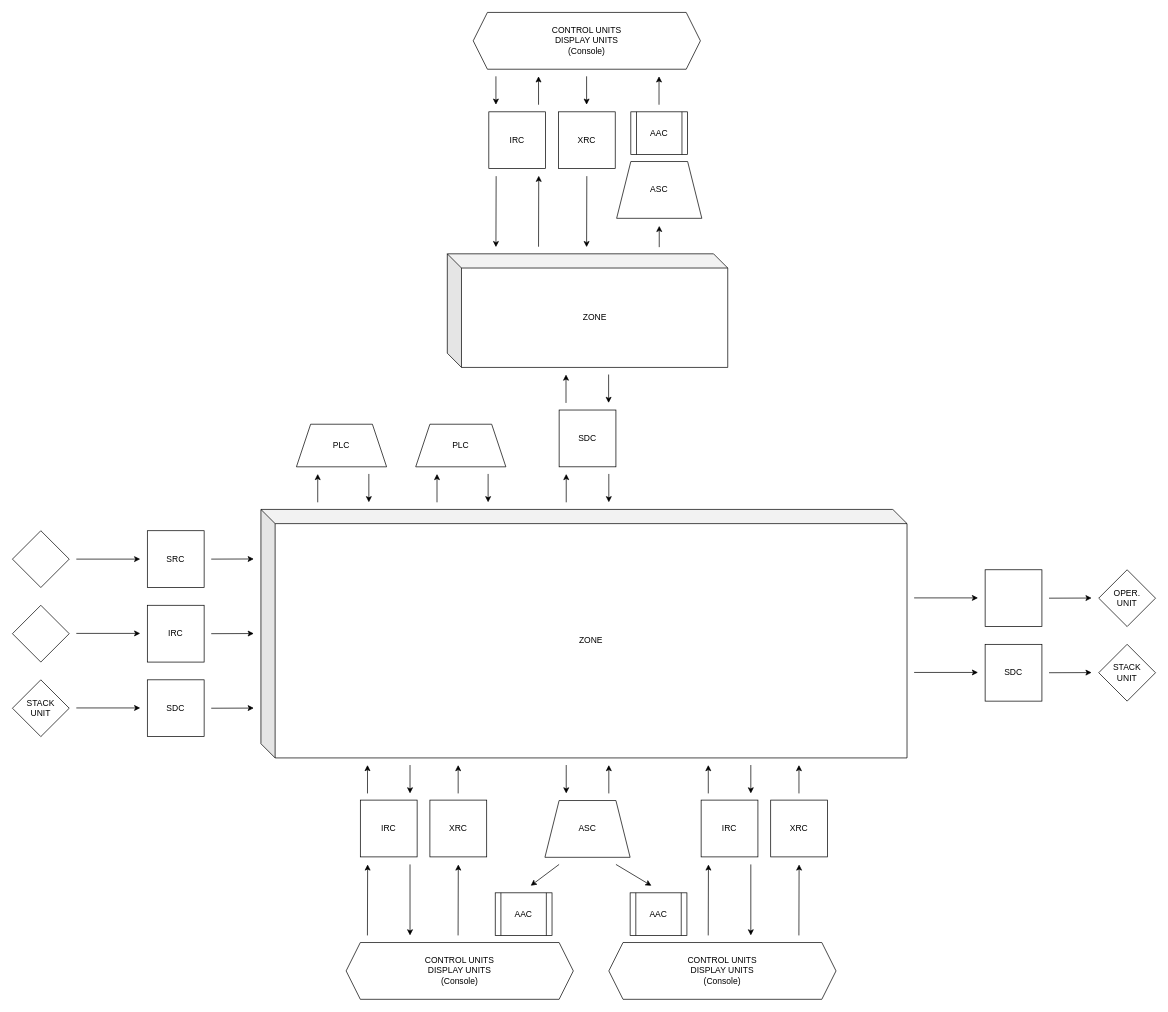
The diagram is 1168 pixels wide and 1012 high, and some of its shapes have lost their labels. The box of each missing label's shape, as (x1, y1, x2, y2) in pixels:
ORC: (984, 569, 1042, 627)
SENSOR UNIT: (12, 605, 69, 662)
SLOT UNIT: (12, 530, 69, 588)
